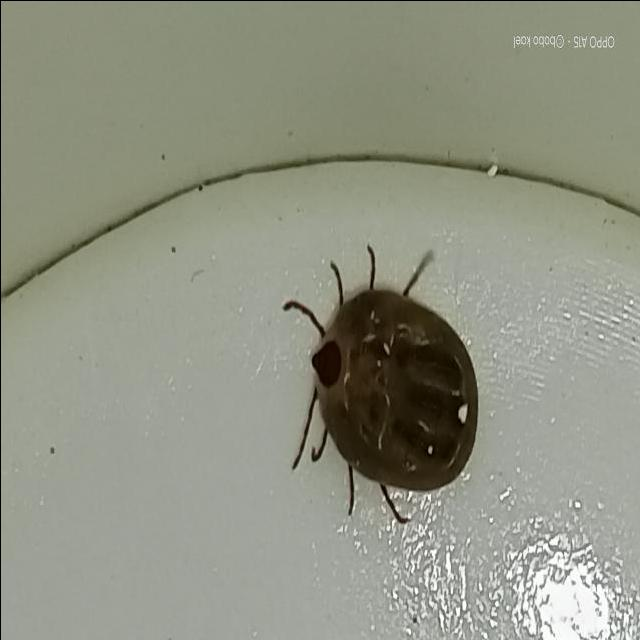Rhipicephalus Sanguineus-F-Fed: (282, 244, 476, 534)
